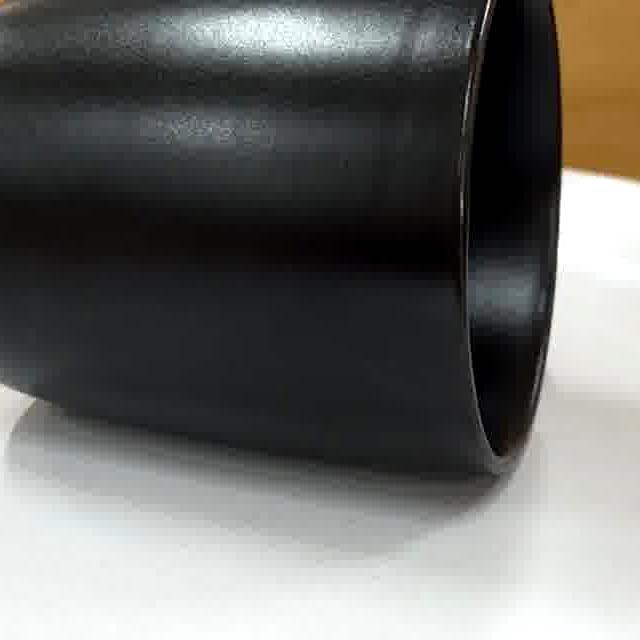cup: (0, 0, 562, 483)
